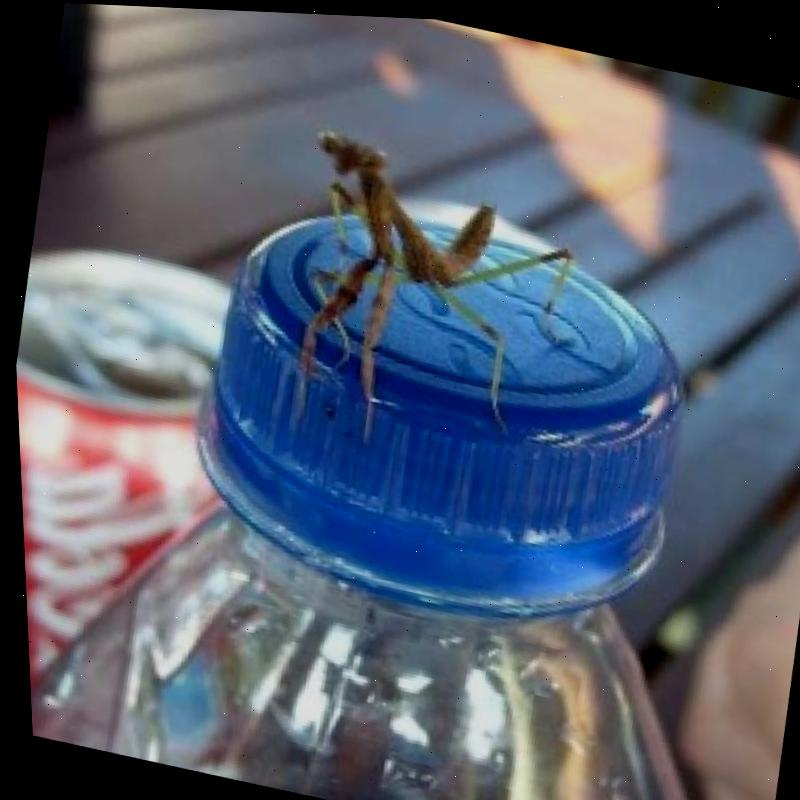botella: (5, 143, 799, 800)
